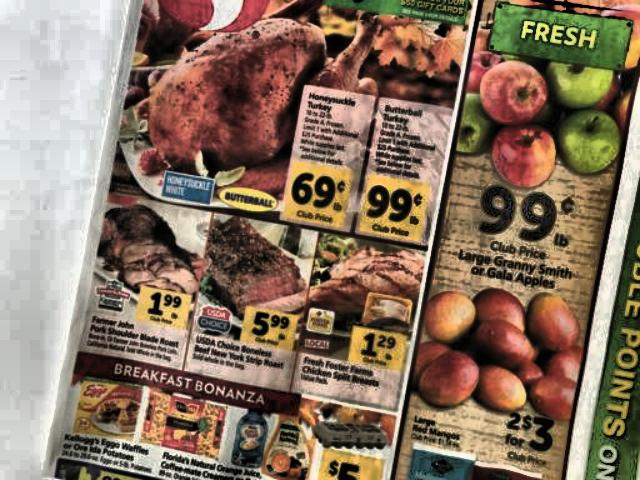Paper: (51, 0, 640, 480)
